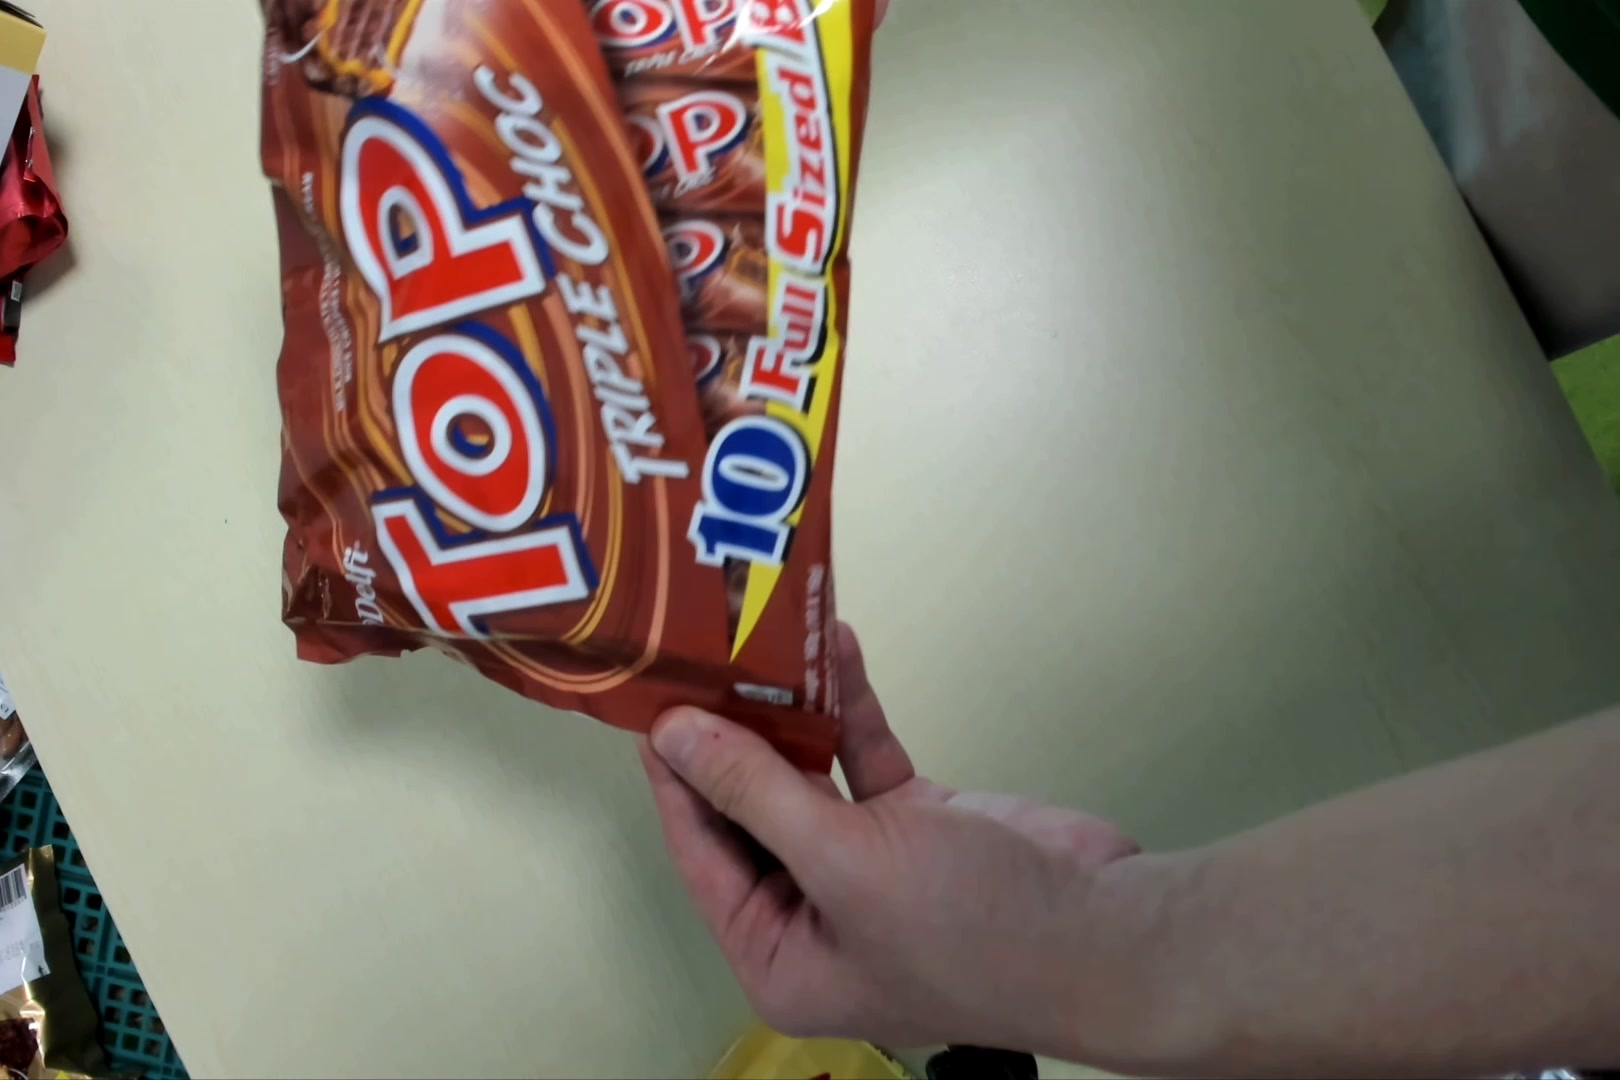SweetsChocolatesOthers_100-199g_NonHalal_NonHealthy: (257, 1, 858, 773)
